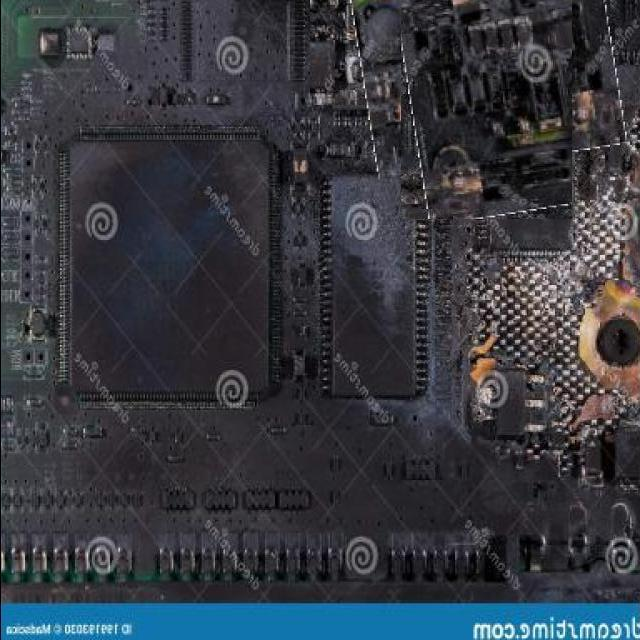damged: (377, 0, 596, 195)
